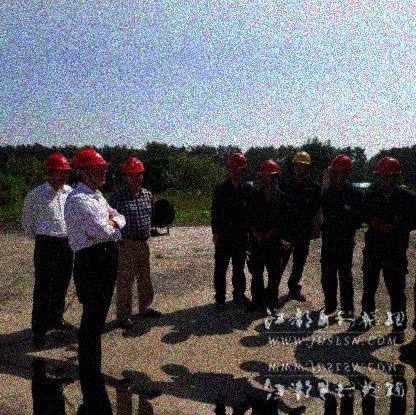helmet: (73, 147, 107, 188), (41, 151, 72, 185), (373, 156, 402, 190), (329, 155, 354, 186), (256, 160, 281, 190), (122, 158, 143, 190), (226, 153, 246, 186), (291, 151, 311, 180)
